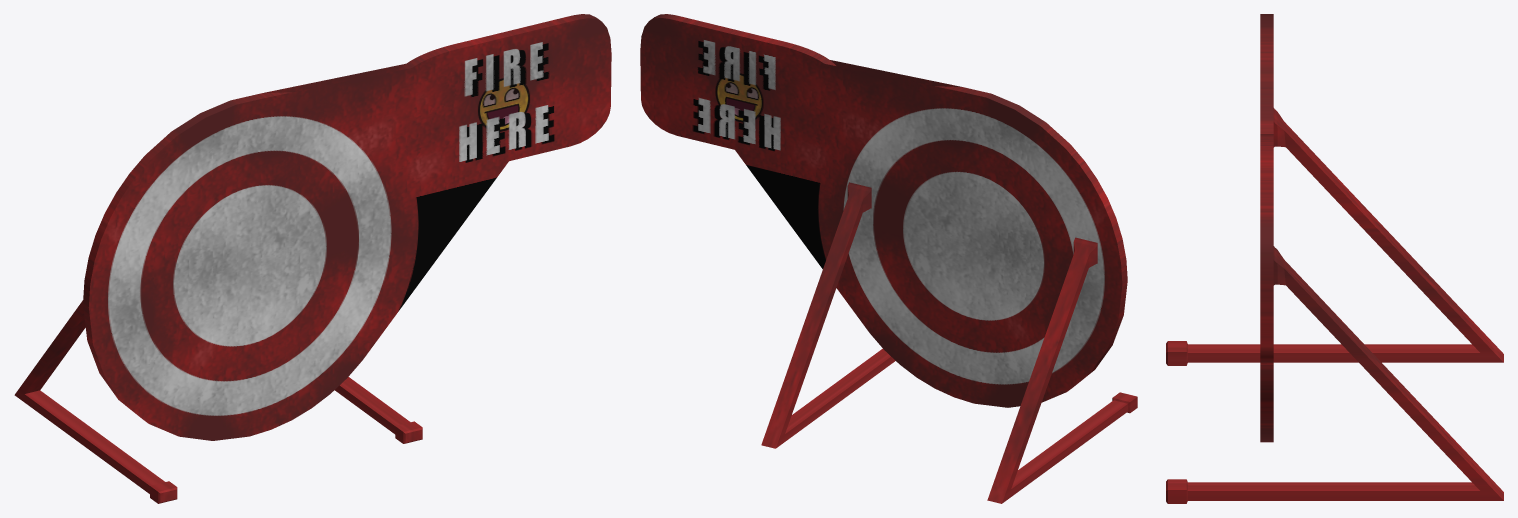
File: ShootHere.FBX
3 views of the same model, side by side, from view 1: azimuth 30°, elevation 25°; view 2: azimuth 150°, elevation 25°; view 3: azimuth 270°, elevation 25° (orthographic). The views are drawn at different scales.
Parts seen in each view (by area): view 1: ShootHere; view 2: ShootHere; view 3: ShootHere.
Boxes of the visible parts, x1,y1,x2,y2 form: ShootHere: [14, 14, 611, 503]; ShootHere: [640, 14, 1137, 503]; ShootHere: [1166, 14, 1503, 503].
Size of the model in its own units: 66.4 by 41.6 by 32.2.
1 material, 1 textured.
